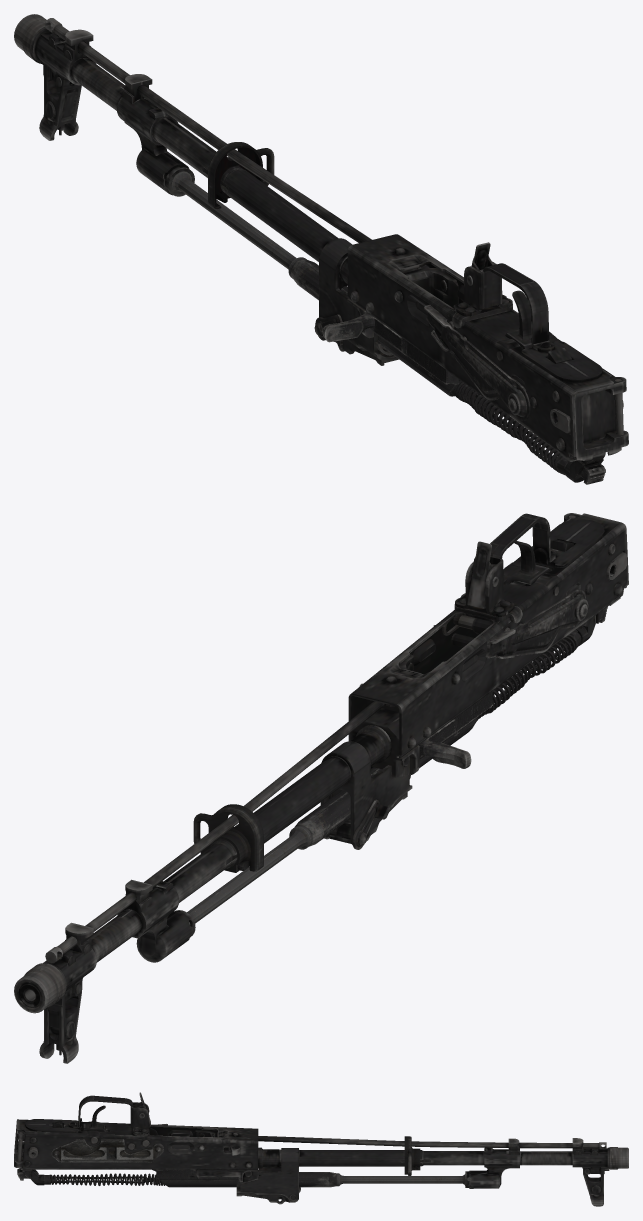
3 views of the same model, one above another, from view 1: azimuth 30°, elevation 25°; view 2: azimuth 150°, elevation 25°; view 3: azimuth 270°, elevation 25° (orthographic). The views are drawn at different scales.
Visible parts, largest first — view 1: TW_5ab8e9fcd8ce870019439434_PZ_Import; view 2: TW_5ab8e9fcd8ce870019439434_PZ_Import; view 3: TW_5ab8e9fcd8ce870019439434_PZ_Import.
Part boxes in pixels (box(x1,y1,x2,y2)): TW_5ab8e9fcd8ce870019439434_PZ_Import: box(14, 14, 628, 484); TW_5ab8e9fcd8ce870019439434_PZ_Import: box(14, 513, 628, 1063); TW_5ab8e9fcd8ce870019439434_PZ_Import: box(14, 1092, 628, 1206).
Size of the model in its own units: 0.0424 by 0.373 by 0.0735.
Materials: 1 (1 with a texture image).
